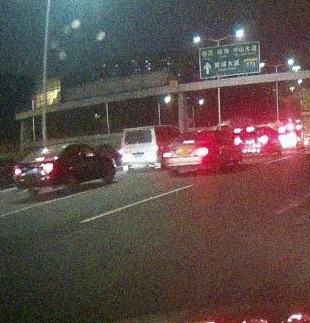L_light: (163, 152, 173, 158), (15, 167, 22, 175), (118, 148, 125, 155)
R_light: (43, 162, 54, 172), (196, 148, 208, 156), (152, 144, 159, 152)
T_light: (183, 140, 194, 143), (35, 157, 45, 160), (135, 130, 142, 132)
night-brake: (14, 144, 70, 195), (163, 130, 214, 177)
night-no: (118, 128, 159, 171)
